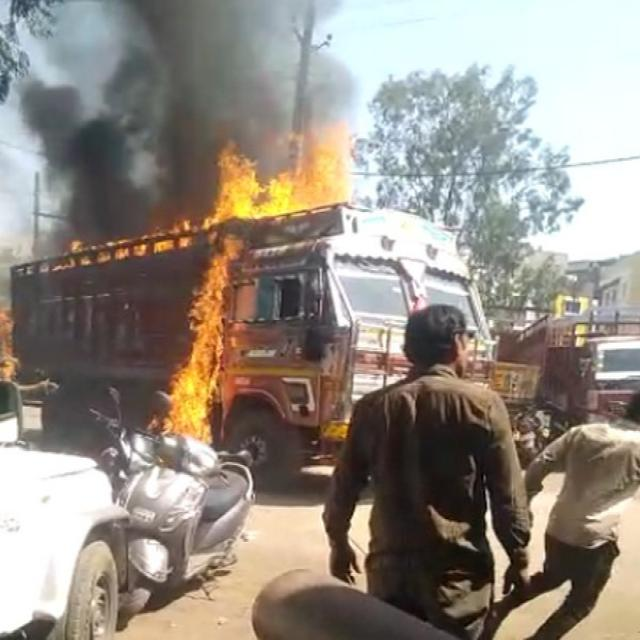accident: (11, 203, 490, 482)
motorcycle: (118, 430, 255, 628)
